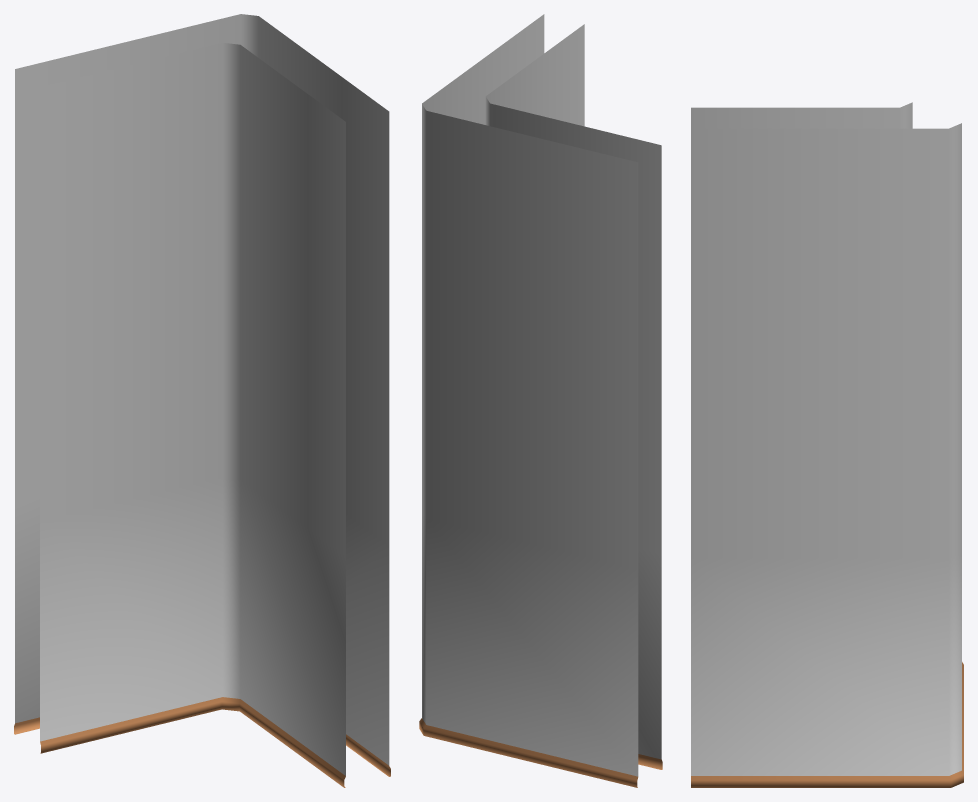
File: crnr_MED.fbx
3 views of the same model, side by side, from view 1: azimuth 30°, elevation 25°; view 2: azimuth 150°, elevation 25°; view 3: azimuth 270°, elevation 25° (orthographic). The views are drawn at different scales.
Visible parts, largest first — view 1: Cube.004; view 2: Cube.004; view 3: Cube.004.
Boxes of the visible parts, bbox=[...] form: Cube.004: bbox=[14, 14, 390, 787]; Cube.004: bbox=[419, 14, 662, 787]; Cube.004: bbox=[691, 102, 963, 787].
Bounding box in the file's own units: 222 × 590 × 222.
